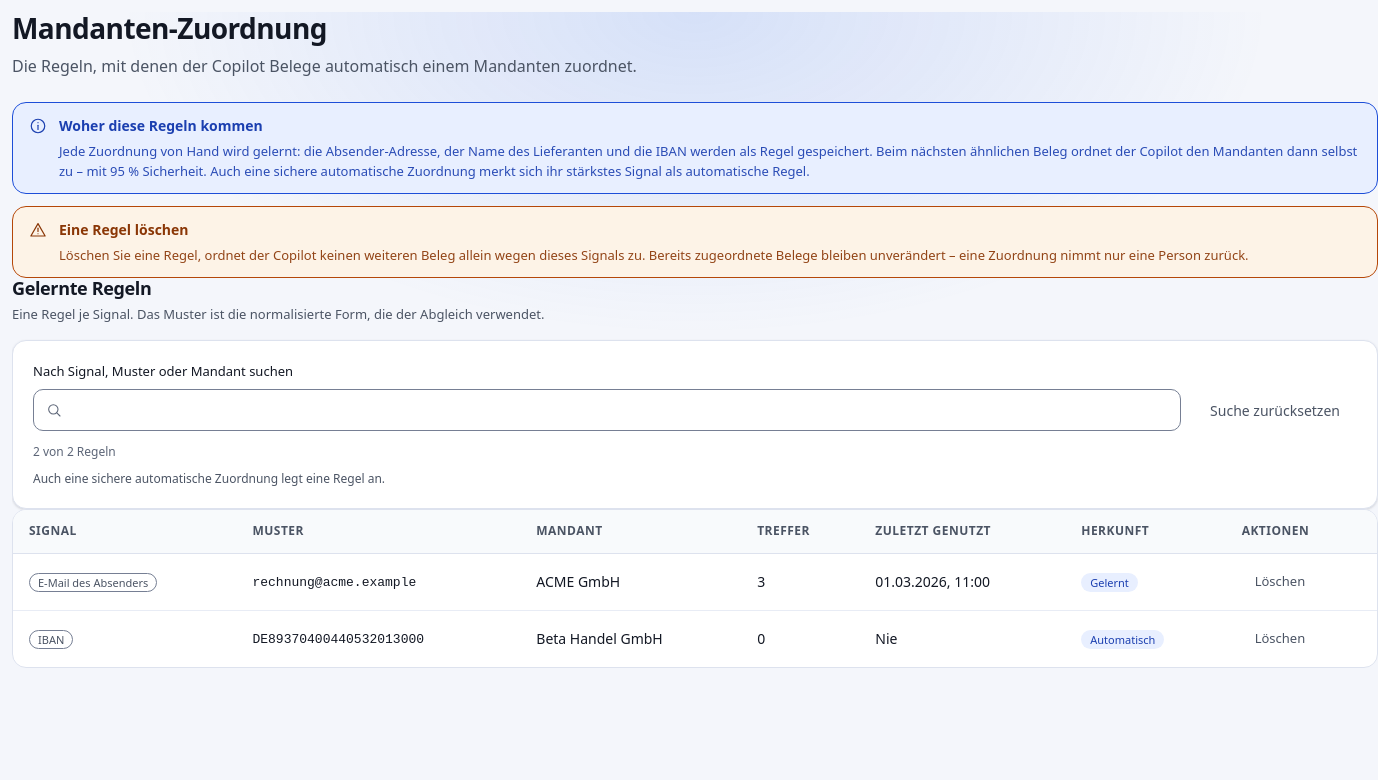
Test: MandantRulesPage › filters by pattern, client or signal name
The width and height of the screenshot is (1378, 780).
expect the text "rechnung@acme.example" is shown: met, box [252,575,416,590]
Type "beta" into the search field labelled "Nach Signal, Muster oder Mandant suchen" at x=625, y=410, box [70,390,1180,430]
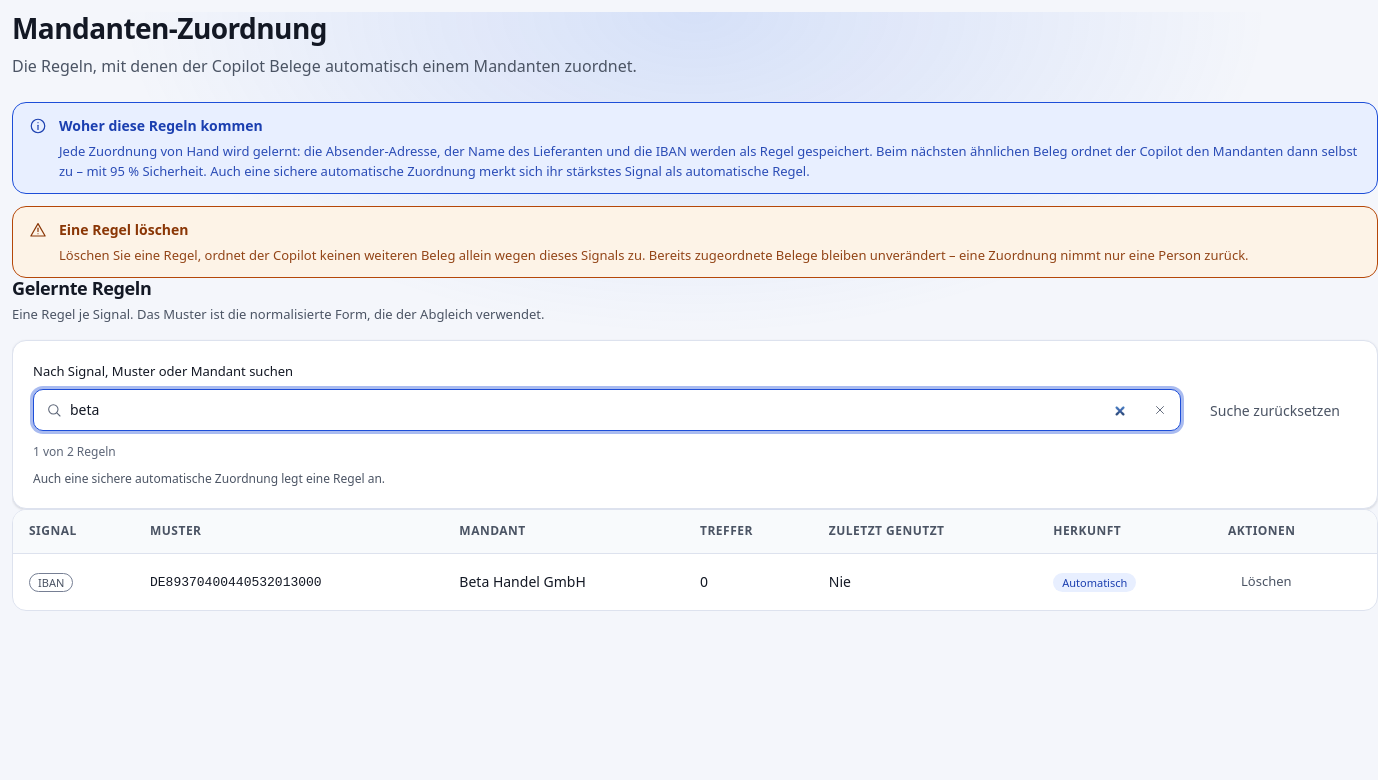
expect the text "DE89370400440532013000" is shown: met, box [150,575,322,590]
expect the text "1 von 2 Regeln" is shown: met, box [33,443,116,460]
expect the text "rechnung@acme.example" is gone: met
